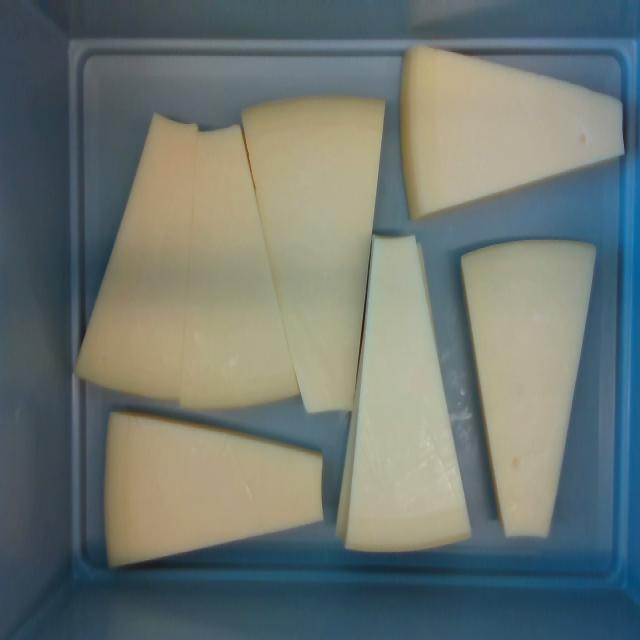Cheese: (241, 95, 385, 417), (345, 235, 473, 551), (464, 241, 598, 537), (409, 43, 625, 219), (74, 111, 194, 397), (182, 126, 301, 408), (105, 417, 328, 564)
